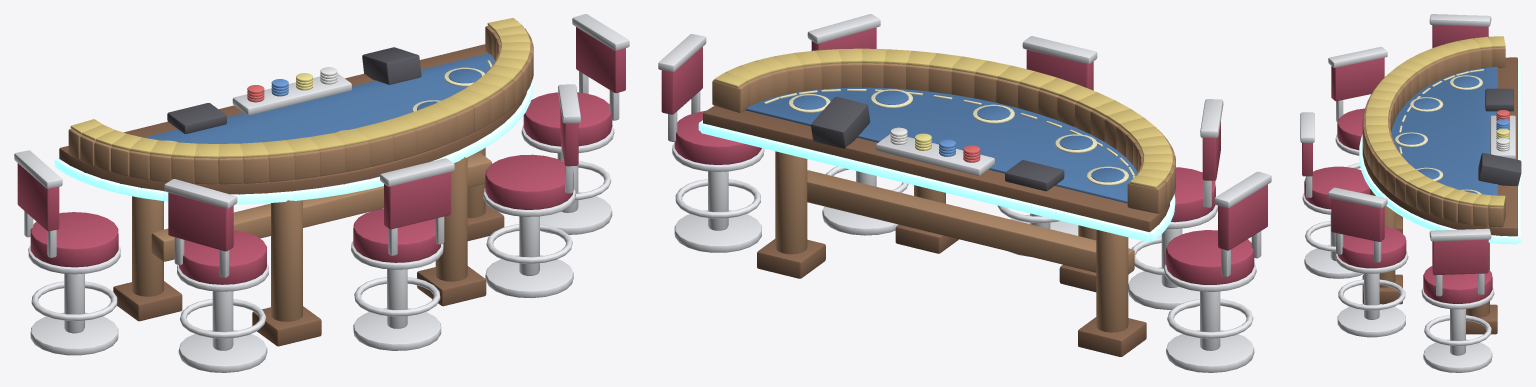
Rendered from th14_kartentisch.glb.
The picture shows the model from 3 angles, left to right: view 1: azimuth 30°, elevation 25°; view 2: azimuth 150°, elevation 25°; view 3: azimuth 270°, elevation 25°; orthographic projection. The views are drawn at different scales.
Visible parts, largest first — view 1: BjFilz, BjPlatte, Cube.004, Cylinder.037, Cylinder.002, Cylinder.049, Cylinder.033, Cylinder.045, Cylinder.041, Cube.125, Cube.129, Cylinder (+51 smaller); view 2: BjFilz, Cube.004, BjPlatte, Cube.034, Cylinder.049, Cylinder, Cylinder.001, Cylinder.046, Cylinder.030, Cylinder.033, Cube.113, Cube.133 (+37 smaller); view 3: BjFilz, BjPlatte, Cube.117, Cylinder.037, Cube.121, Cube.129, Cylinder.033, Cylinder.041, Cylinder.034, Cylinder.030, Cube.113, Cylinder.038 (+63 smaller).
Boxes of the visible parts, left/top/right/bottom form: BjFilz: left=144, top=53, right=495, bottom=143; BjPlatte: left=59, top=44, right=526, bottom=194; Cube.004: left=151, top=153, right=491, bottom=261; Cylinder.037: left=485, top=154, right=573, bottom=209; Cylinder.002: left=271, top=200, right=302, bottom=321; Cylinder.049: left=30, top=212, right=118, bottom=267; Cylinder.033: left=523, top=92, right=612, bottom=146; Cylinder.045: left=179, top=230, right=266, bottom=284; Cylinder.041: left=353, top=208, right=440, bottom=262; Cube.125: left=384, top=172, right=450, bottom=229; Cube.129: left=168, top=192, right=233, bottom=251; Cylinder: left=132, top=196, right=163, bottom=296; BjFilz: left=746, top=87, right=1137, bottom=203; Cube.004: left=807, top=170, right=1134, bottom=274; BjPlatte: left=703, top=105, right=1170, bottom=231; Cube.034: left=700, top=123, right=1149, bottom=241; Cylinder.049: left=1166, top=230, right=1254, bottom=284; Cylinder: left=1096, top=229, right=1128, bottom=332; Cylinder.001: left=775, top=151, right=807, bottom=254; Cylinder.046: left=1166, top=330, right=1254, bottom=372; Cylinder.030: left=674, top=210, right=761, bottom=252; Cylinder.033: left=674, top=110, right=761, bottom=164; Cube.113: left=811, top=97, right=870, bottom=148; Cube.133: left=1218, top=184, right=1267, bottom=250; BjFilz: left=1391, top=67, right=1497, bottom=195; BjPlatte: left=1362, top=57, right=1517, bottom=236; Cube.117: left=1432, top=239, right=1488, bottom=274; Cylinder.037: left=1338, top=226, right=1406, bottom=268; Cube.121: left=1331, top=198, right=1384, bottom=241; Cube.129: left=1331, top=57, right=1384, bottom=101; Cylinder.033: left=1423, top=266, right=1492, bottom=303; Cylinder.041: left=1304, top=166, right=1369, bottom=209; Cylinder.034: left=1337, top=304, right=1405, bottom=337; Cylinder.030: left=1423, top=339, right=1492, bottom=372; Cube.113: left=1478, top=153, right=1521, bottom=186; Cylinder.038: left=1304, top=245, right=1363, bottom=278.
Size of the model in its own units: 3.12 by 0.942 by 1.31.
